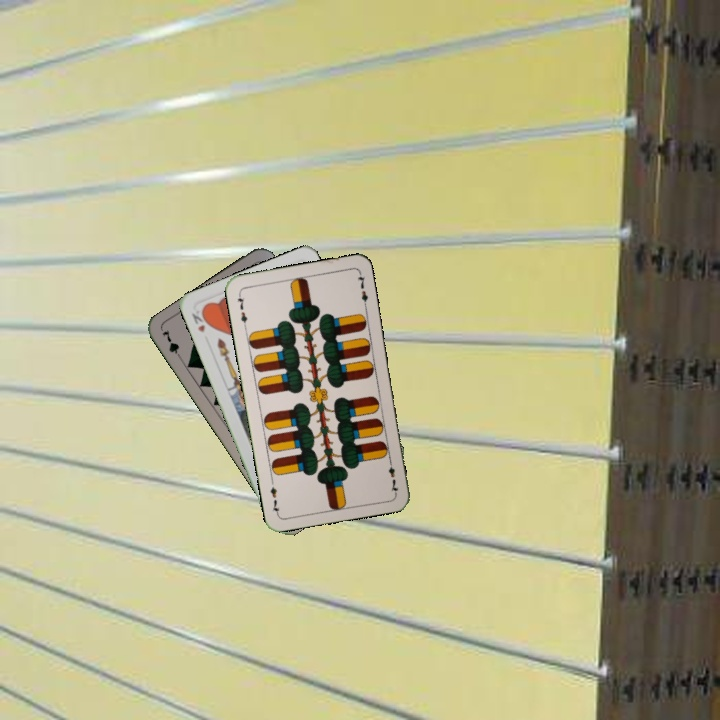E7: (233, 289, 250, 330), (384, 455, 401, 495)
G7: (158, 326, 186, 364)
HK: (187, 305, 212, 335)
